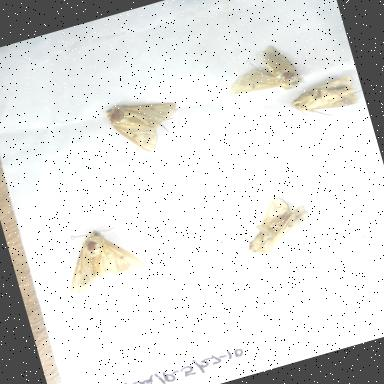abw: (50, 212, 154, 304), (96, 83, 198, 167), (224, 186, 326, 269), (213, 34, 310, 110), (282, 71, 366, 128)
